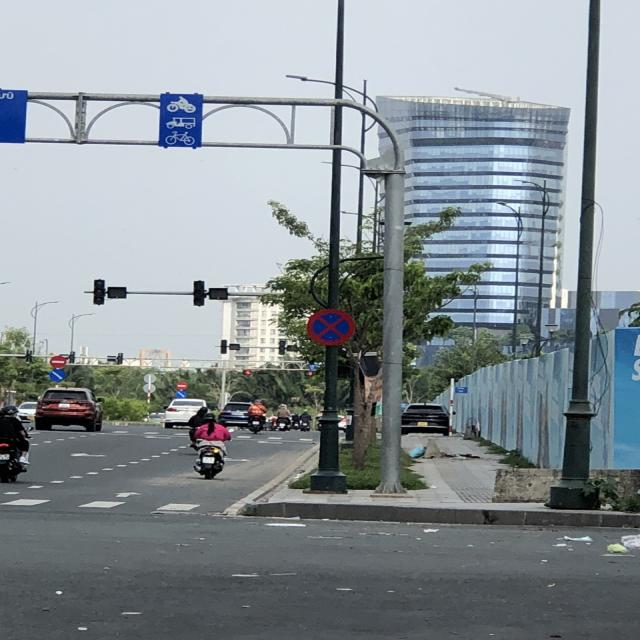Bien bao cam dung xe va do xe: (303, 304, 360, 349)
